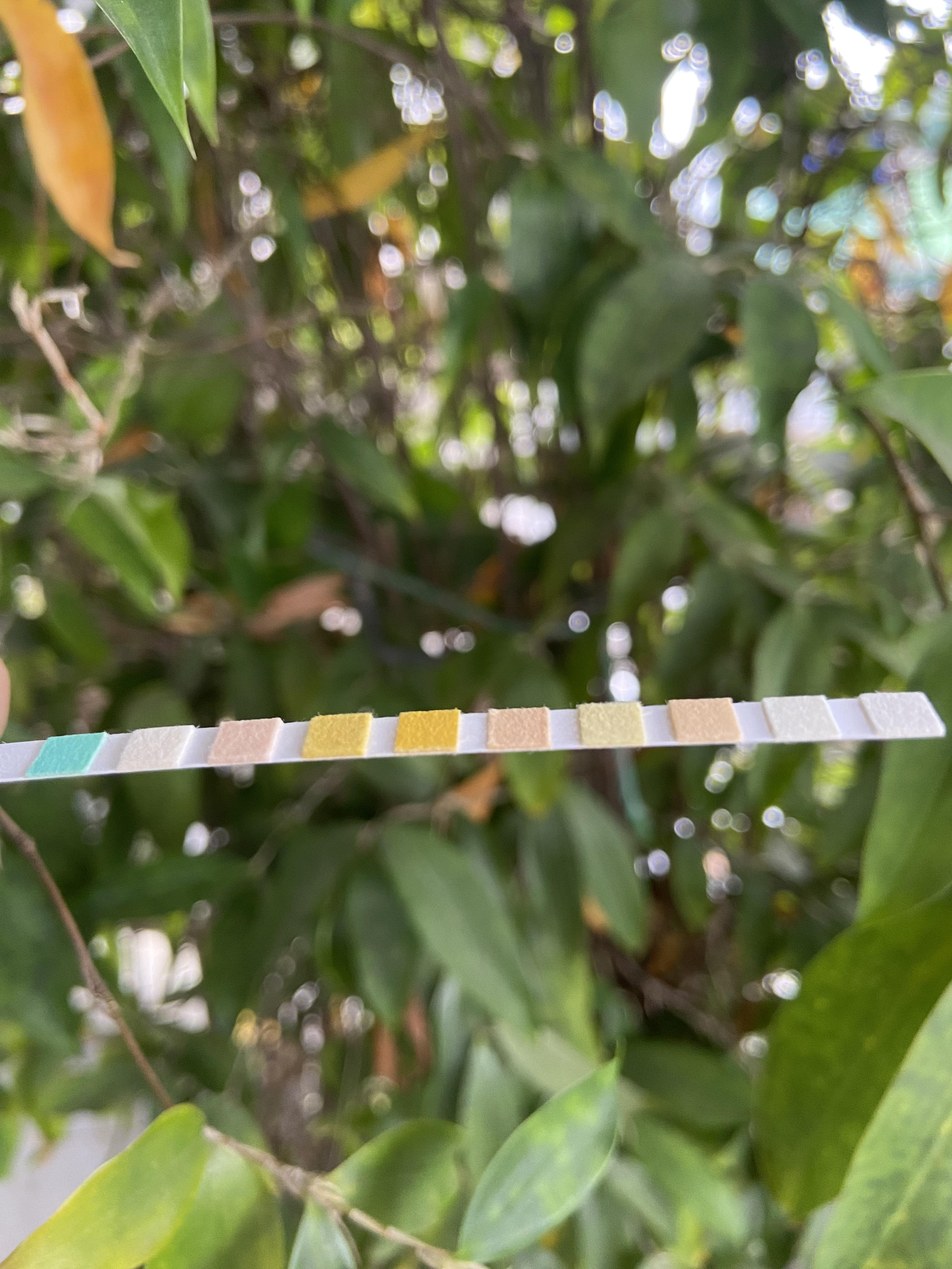Bilirubin: (136, 730, 174, 767)
Blood: (400, 713, 453, 752)
Glucose: (50, 738, 82, 774)
Ketone: (221, 723, 264, 762)
Leukocytes: (883, 694, 921, 735)
Nitrite: (778, 698, 822, 737)
Protein: (581, 705, 637, 744)
SpGravity: (314, 718, 361, 756)
Urobilinogen: (678, 701, 730, 739)
pH: (491, 710, 547, 747)
strip: (1, 696, 946, 782)
